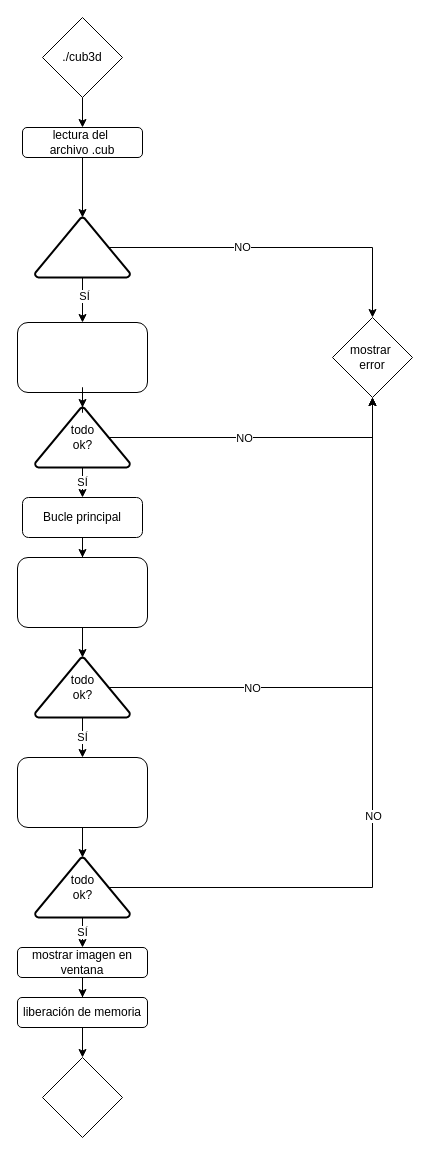
Some shapes in this 430 by 1155 pixel diagram are drawn without their labels. Here are the shapes that lost their labels. From the top down, the centre of each, then its label:
the point at 82,247: lect correcta?
the point at 82,357: Inicialización del juego (ventana, buffer, texturas, mapa, jugador)
the point at 82,592: Inicialización de la lógica (movimiento colisiones...)
the point at 82,792: renderizado (paredes, suelo y techo)
the point at 82,1097: cierre
